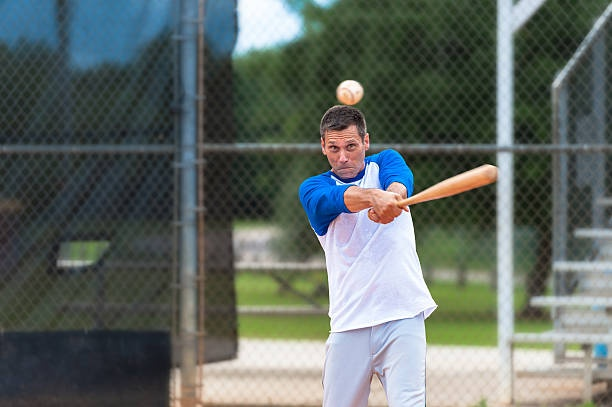bita: (395, 164, 496, 213)
